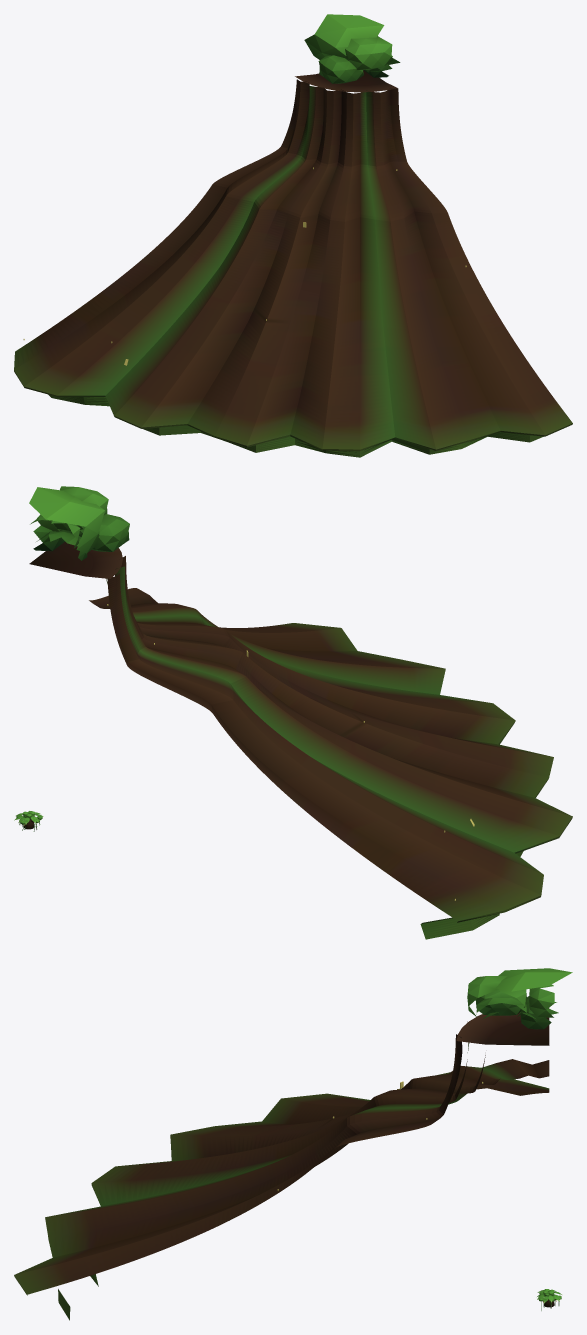
Rendered from swamp-s3-wwfpR_iC.glb.
The picture shows the model from 3 angles, top to bottom: view 1: azimuth 30°, elevation 25°; view 2: azimuth 150°, elevation 25°; view 3: azimuth 270°, elevation 25°; orthographic projection. The views are drawn at different scales.
Visible parts, largest first — view 1: sc_landmark_2; view 2: sc_landmark_2; view 3: sc_landmark_2.
Boxes of the visible parts, <box> form: sc_landmark_2: <box>14,14,572,457</box>; sc_landmark_2: <box>29,486,572,939</box>; sc_landmark_2: <box>14,968,572,1320</box>.
Size of the model in its own units: 416 by 279 by 422.
